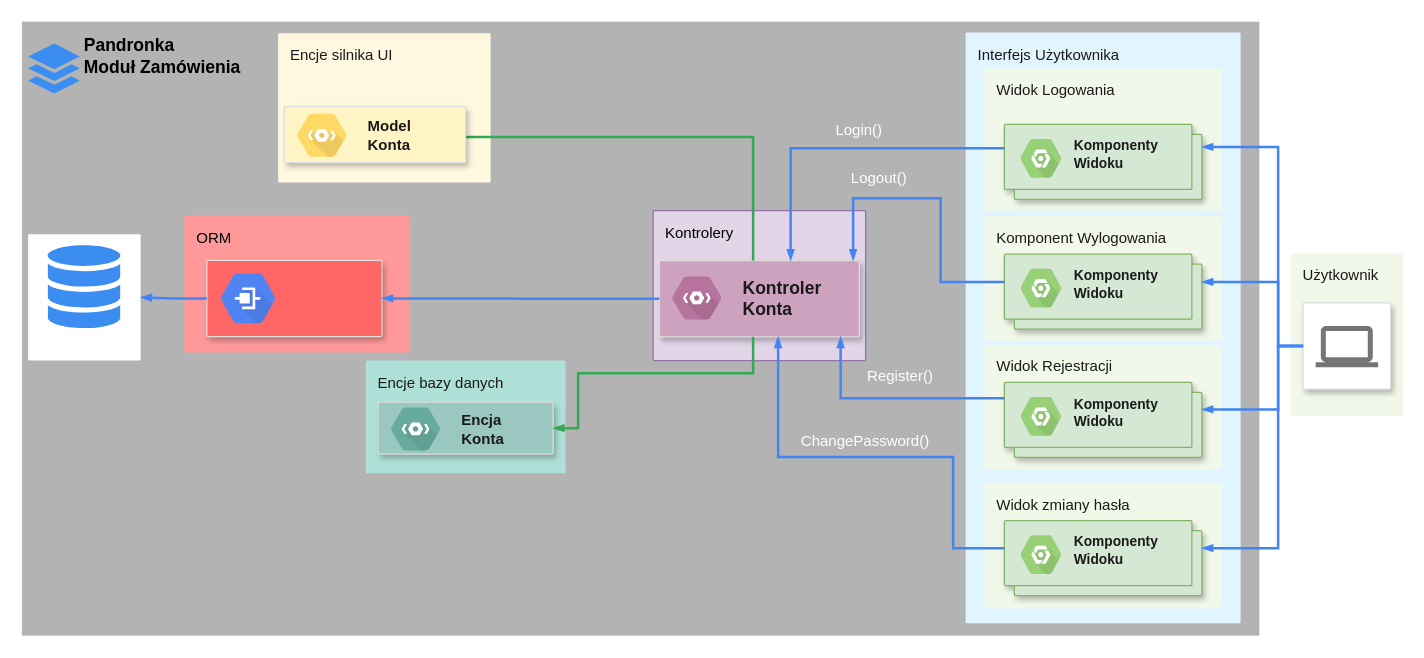
Image size: 1424x658. Some labels were removed from this diagram. Here are the shapes that lost their labels. From the top down, the centre of each, then its label:
pixel 83 286: Baza danych
pixel 247 297: Adapter dostępowy
